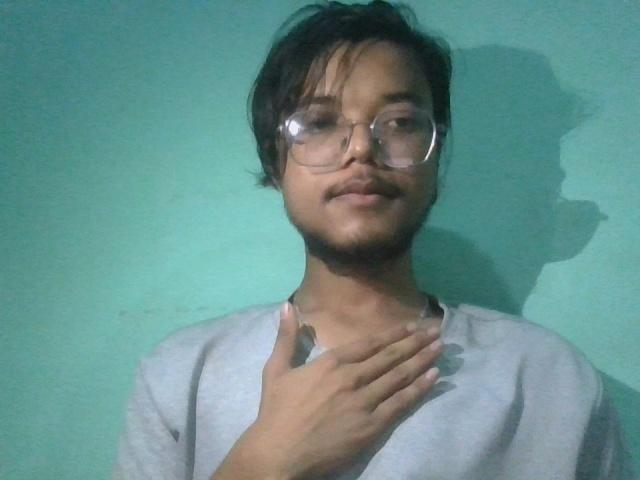Please: (163, 230, 548, 478)
